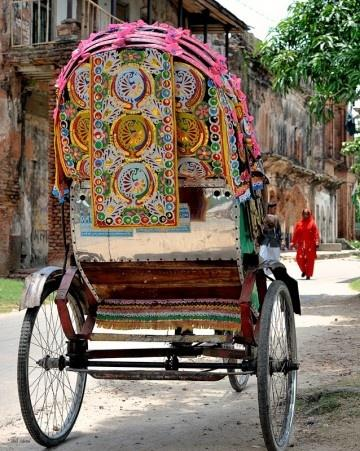Rickshaw: (18, 21, 299, 450)
